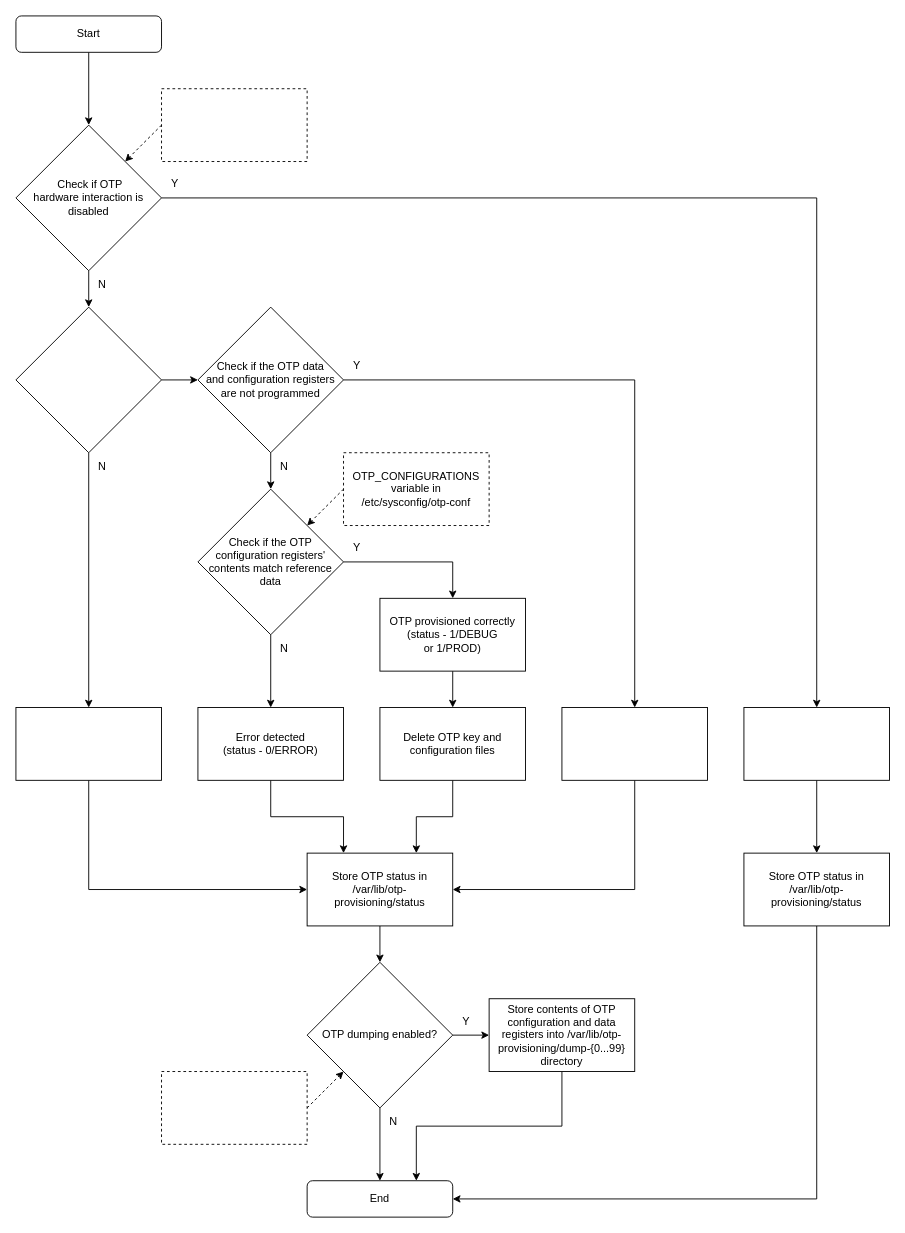
The diagram is 905 pixels wide and 1233 high, and some of its shapes have lost their labels. Here are the shapes that lost their labels. From the top down, the box of each, then its label:
(161, 88, 307, 162): OTP_HW_ENABLED variable in /etc/sysconfig/otp-conf
(15, 306, 162, 453): Check if I2C 0 bus has more than 1 device
(15, 707, 162, 780): QEMU detected (status - 0/OTPDISABLED)
(561, 707, 708, 780): OTP is not provisioned (status - 0/EMPTY)
(743, 707, 890, 780): OTP disabled (status - 0/OTPDISABLED)
(161, 1071, 307, 1144): OTP_DUMP variable in /etc/sysconfig/otp-conf
